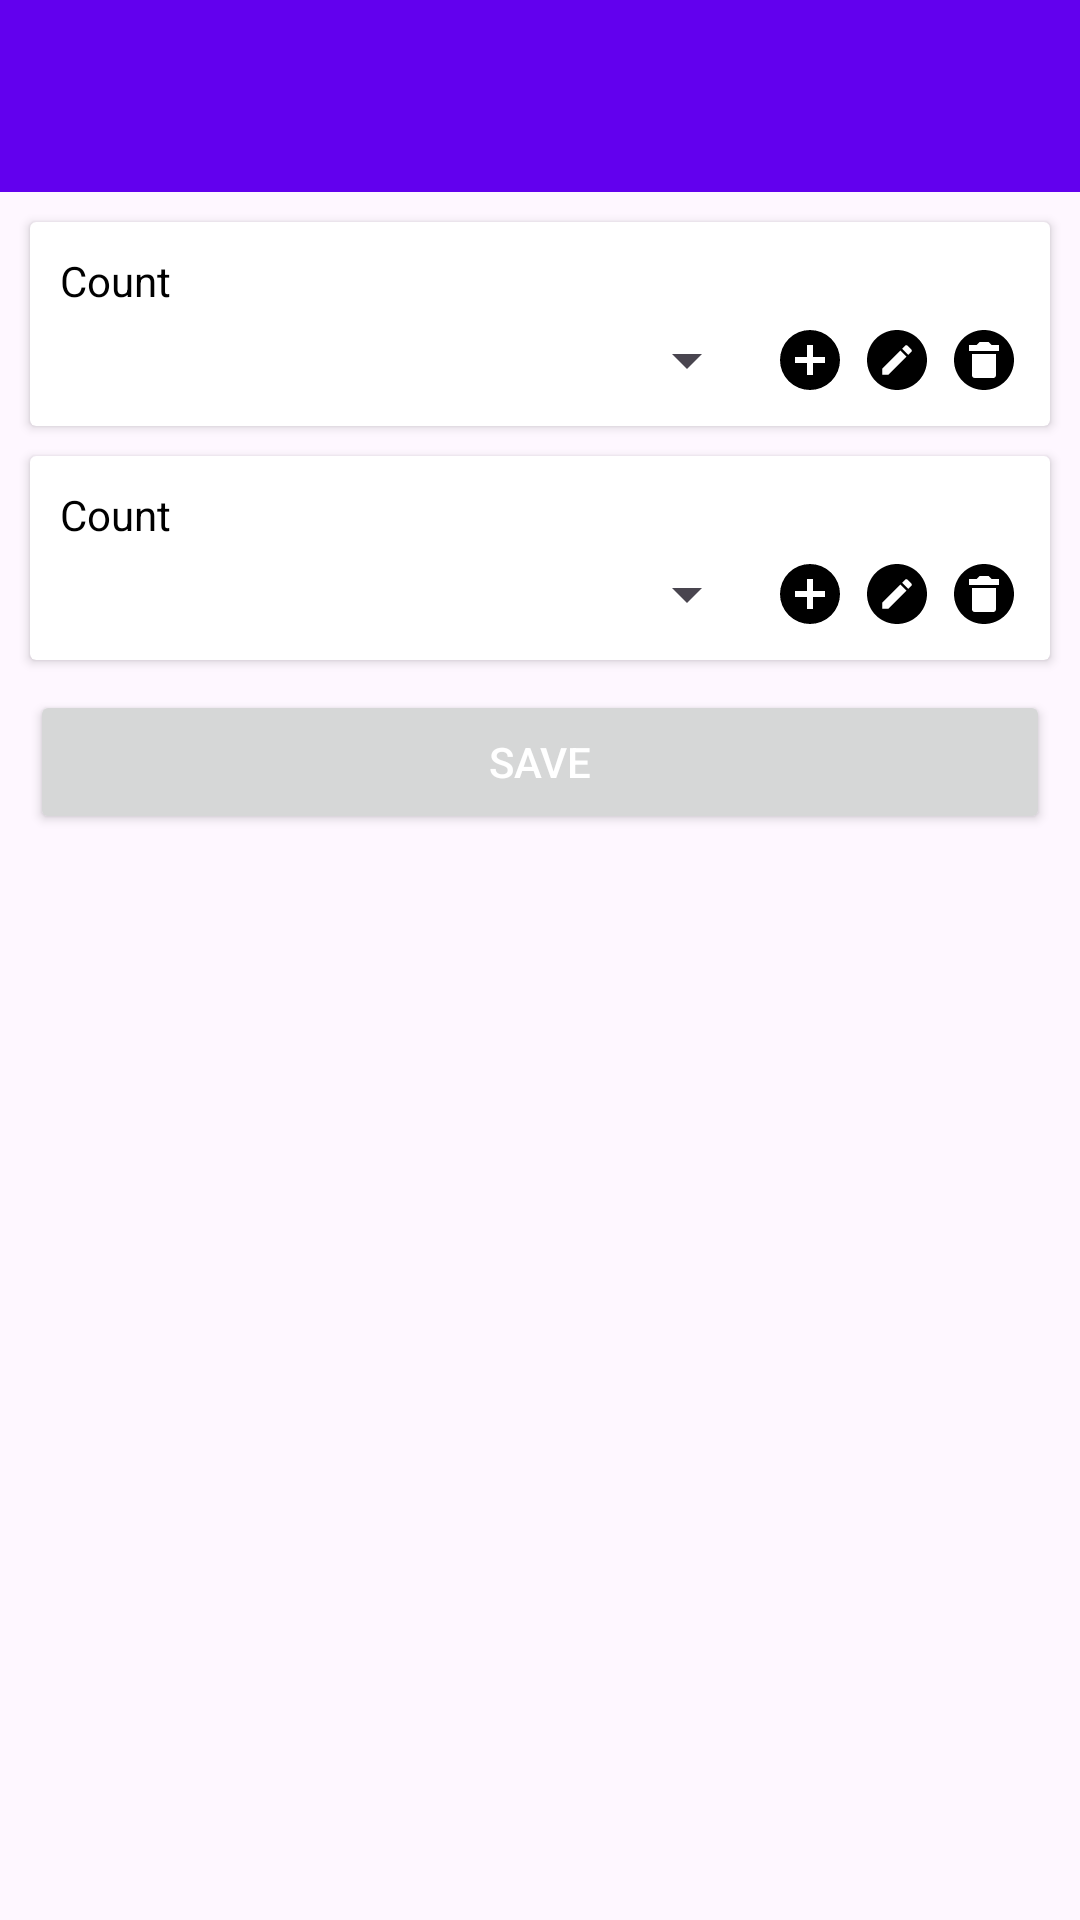

Icon bounding boxes for this 1080px×1920px phone screenshot, format bbox=[x1, y1, x2, y2]:
delete circle: bbox=[954, 330, 1014, 390], bbox=[954, 564, 1014, 624]
pencil circle: bbox=[867, 330, 927, 390], bbox=[867, 564, 927, 624]
plus circle: bbox=[780, 330, 840, 390], bbox=[780, 564, 840, 624]
